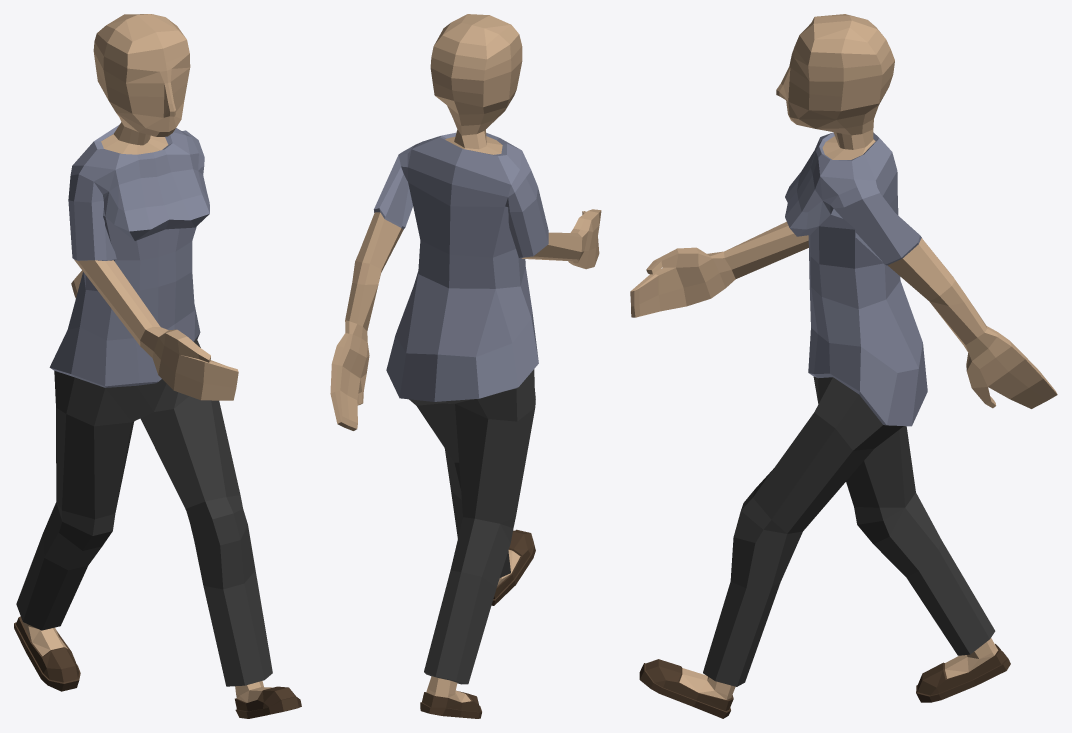
Rendered from crowd_eclair_female_running.f79db61c.glb.
3 views of the same model, side by side, from view 1: azimuth 30°, elevation 25°; view 2: azimuth 150°, elevation 25°; view 3: azimuth 270°, elevation 25° (orthographic). The views are drawn at different scales.
Parts seen in each view (by area): view 1: Pants, Shirt, Skin, Shoes; view 2: Shirt, Pants, Skin, Shoes; view 3: Pants, Skin, Shirt, Shoes.
Boxes of the visible parts, box(x1,y1,x2,y2) form: Pants: box(16, 338, 272, 686); Shirt: box(49, 124, 209, 387); Skin: box(21, 14, 271, 702); Shoes: box(14, 616, 301, 718); Shirt: box(373, 132, 548, 401); Pants: box(409, 369, 535, 684); Skin: box(330, 14, 601, 702); Shoes: box(420, 529, 535, 718); Pants: box(703, 376, 995, 686); Skin: box(630, 14, 1057, 699); Shirt: box(785, 132, 927, 426); Shoes: box(639, 644, 1010, 718).
Bounding box in the file's own units: 0.8367 × 3.7 × 2.06.
